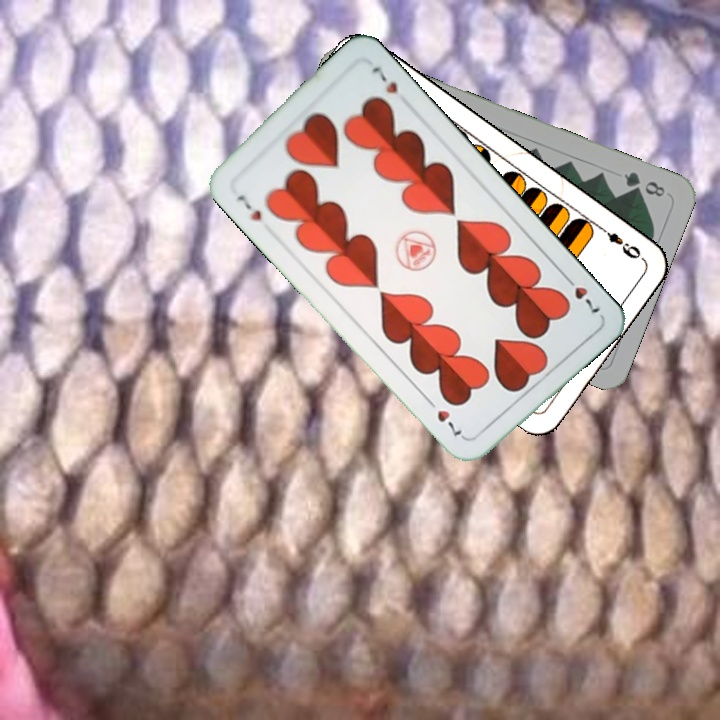E9: (595, 222, 646, 263)
G8: (619, 167, 668, 200)
H7: (559, 270, 604, 316), (233, 188, 265, 224)
